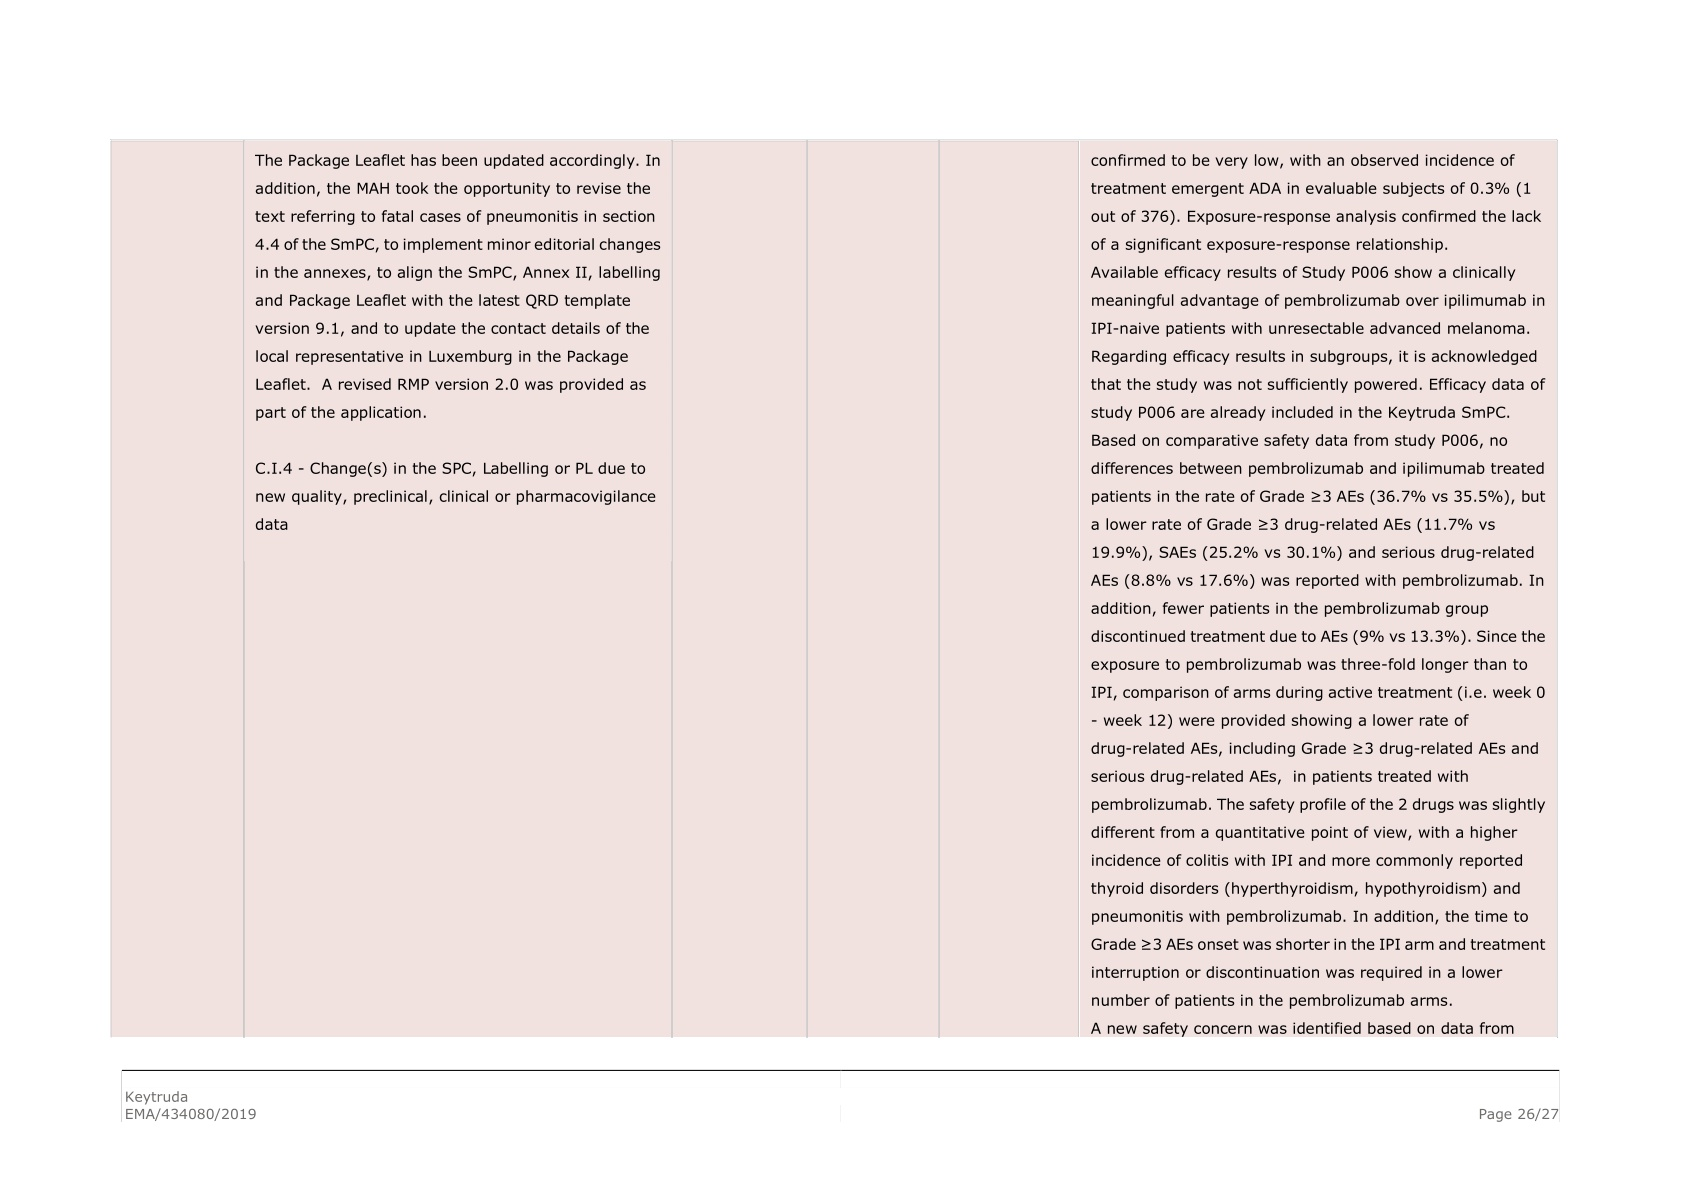full_lined: (109, 138, 1558, 1038)
